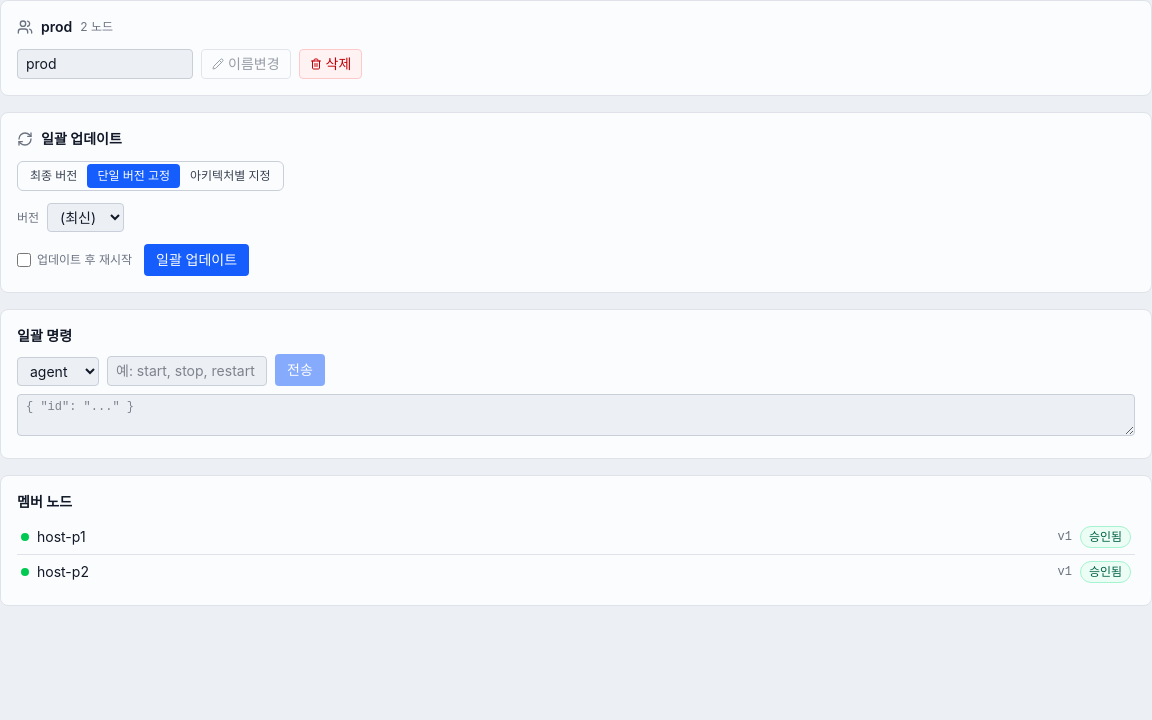
Test case: GroupControlPanel › pin 전략에서 자산 없는 아키텍처에 대한 건너뜀 경고를 표시한다
Step 1. Select "v1.3.0" in the dropdown with test id "group-control-pin-version" → (86, 218), box [47,203,124,232]
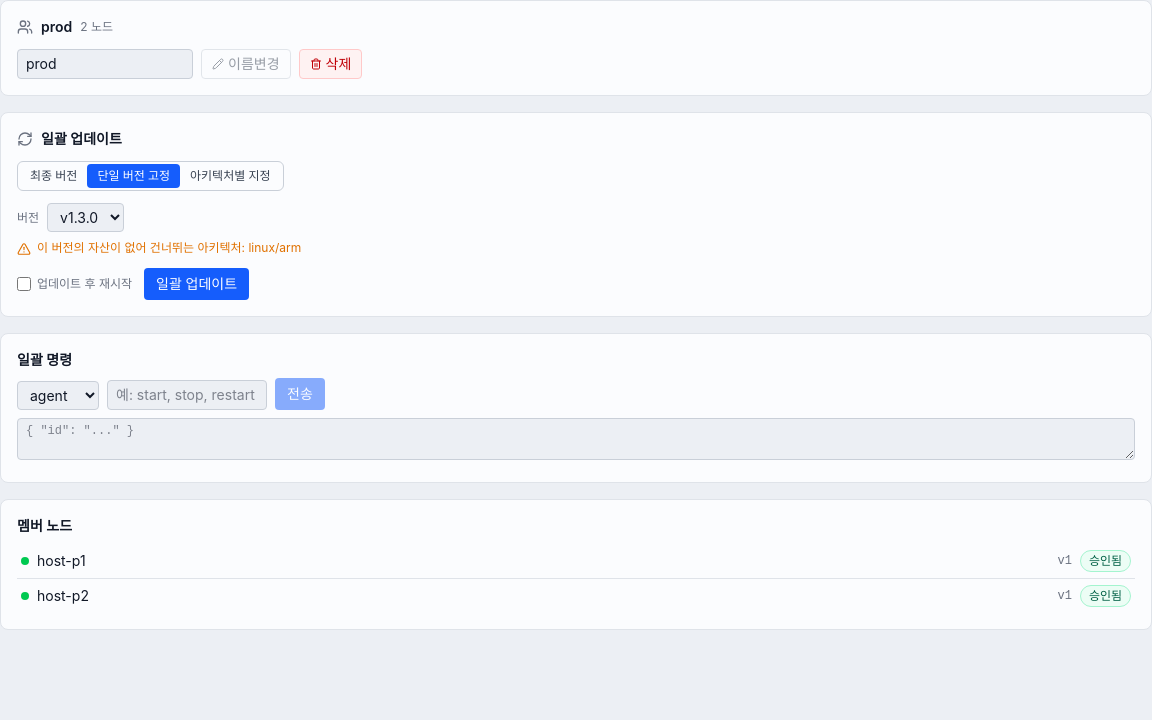
Expected: the element with test id "group-control-missing-warn" shows "linux/arm", [248,240,301,255]
